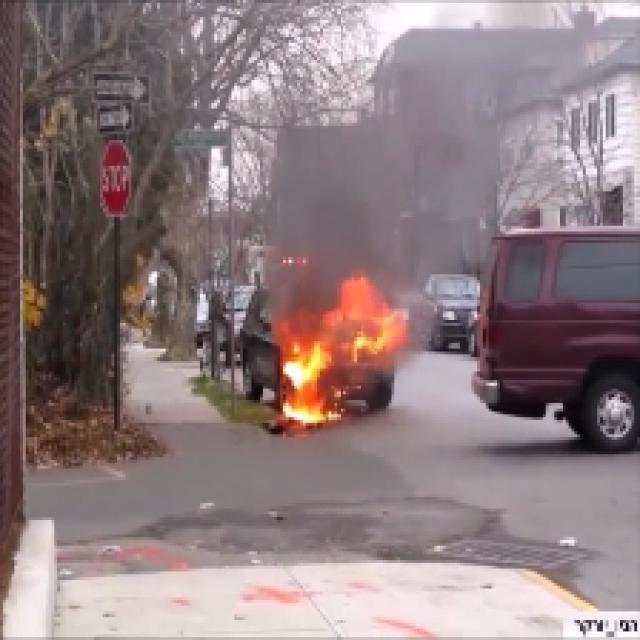Fire: (277, 280, 397, 426)
Smoke: (300, 137, 380, 266)
